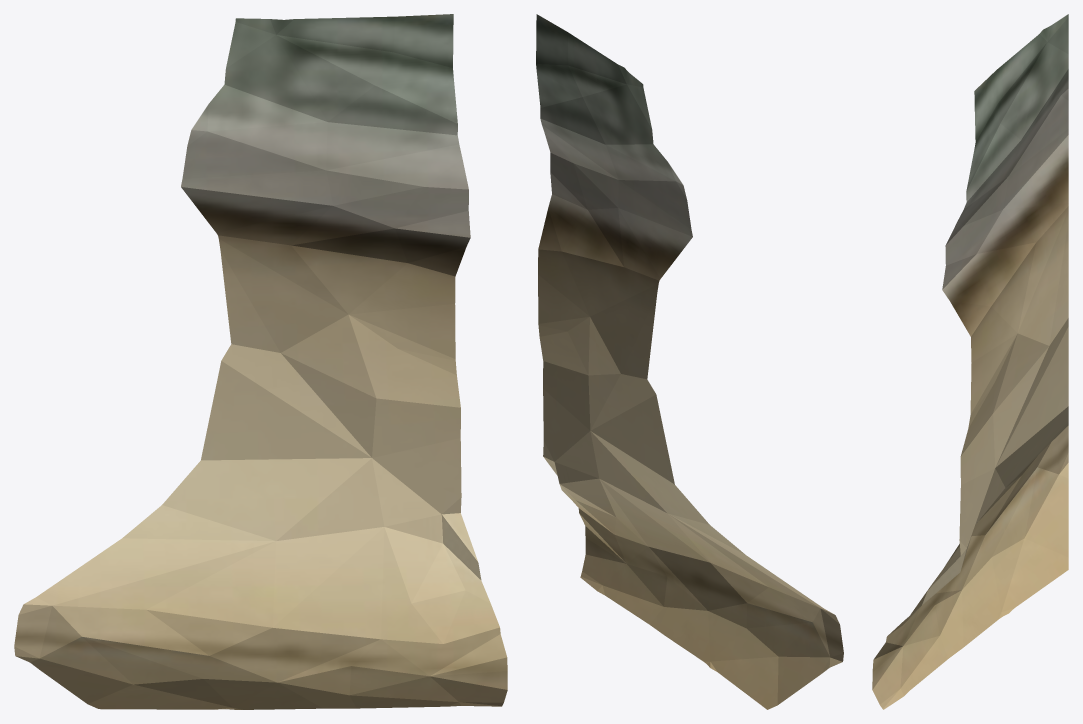
3 views of the same model, side by side, from view 1: azimuth 30°, elevation 25°; view 2: azimuth 150°, elevation 25°; view 3: azimuth 270°, elevation 25° (orthographic). The views are drawn at different scales.
Size of the model in its own units: 0.5191 by 0.8374 by 0.2405.
Materials: 1 (1 with a texture image).
